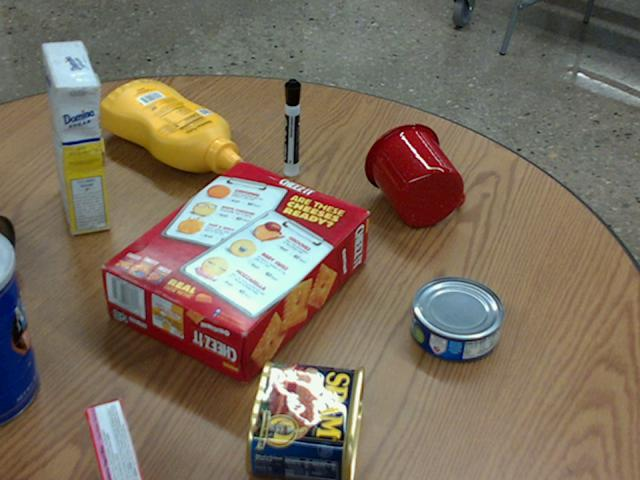cracker_box: (103, 162, 369, 382)
gelatin_box: (84, 397, 142, 479)
large_marker: (283, 79, 300, 175)
master_chef_can: (0, 234, 37, 423)
mug: (364, 123, 464, 227)
mustard_bottle: (100, 80, 241, 172)
potted_meat_can: (244, 361, 364, 479)
sugar_box: (44, 41, 107, 233)
tomato_soup_can: (0, 214, 14, 273)
tuna_fish_can: (410, 277, 503, 361)
